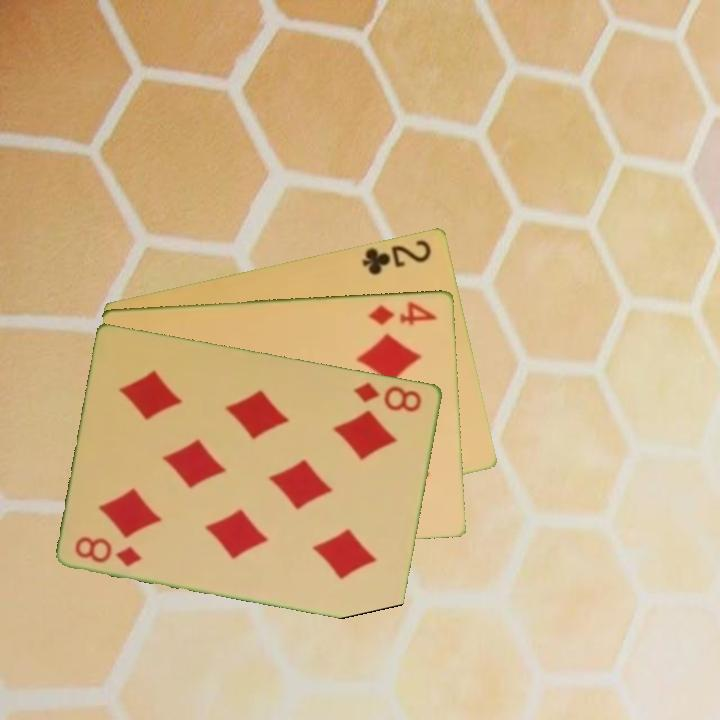2c: (359, 235, 435, 278)
4d: (365, 298, 440, 328)
8d: (350, 378, 425, 415), (72, 532, 145, 569)
